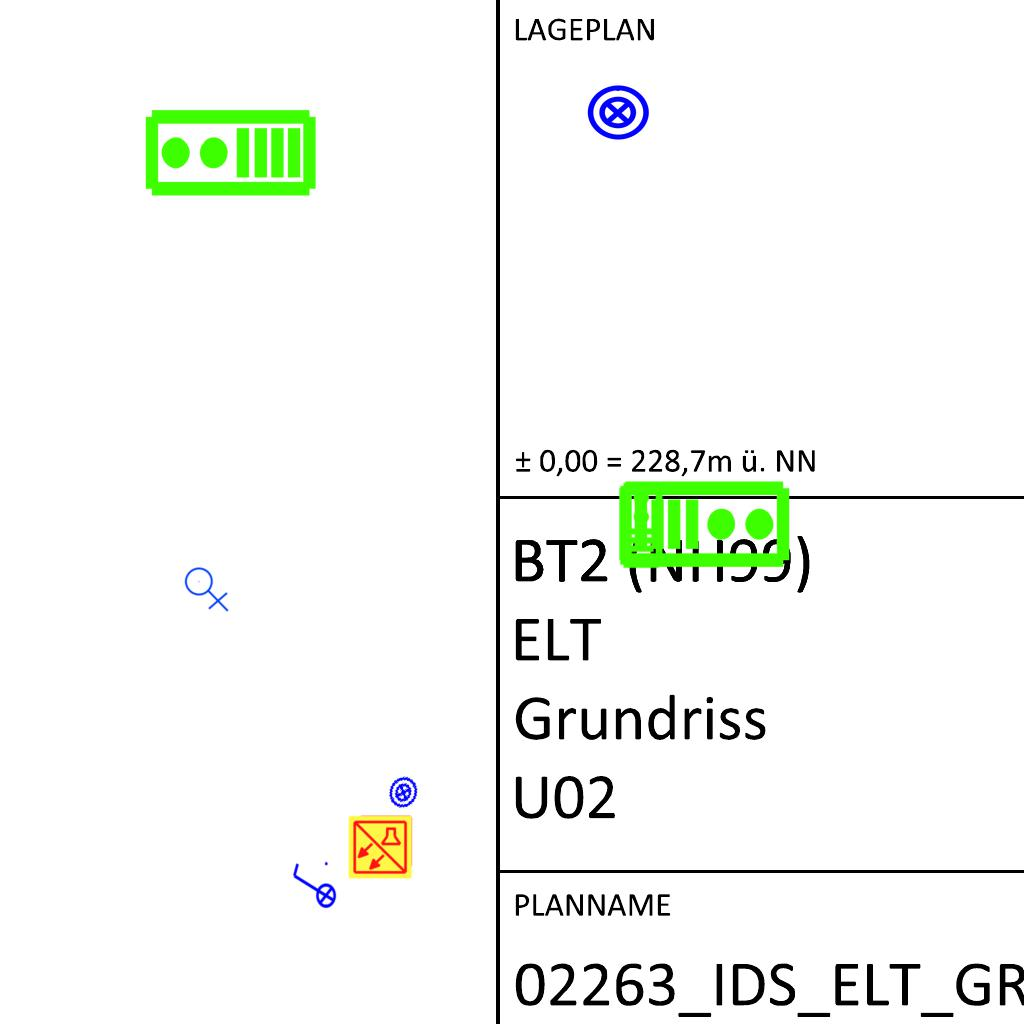Ausschalter_beleuchtet: (289, 859, 337, 915)
Elektroanschluss_allgemein_230V_Geraeteanschlussdose_230V: (184, 563, 231, 612)
Gegensprechanlage_mit_Video: (617, 475, 793, 570), (142, 107, 318, 202), (617, 481, 664, 569)
OKW_Multisensormelder_(Kombination_optischer_Rauch-Kahlenmonoxid_Waerme-Melder): (347, 814, 413, 880)
Taster_beleuchtet: (585, 80, 651, 146), (382, 771, 425, 814)
